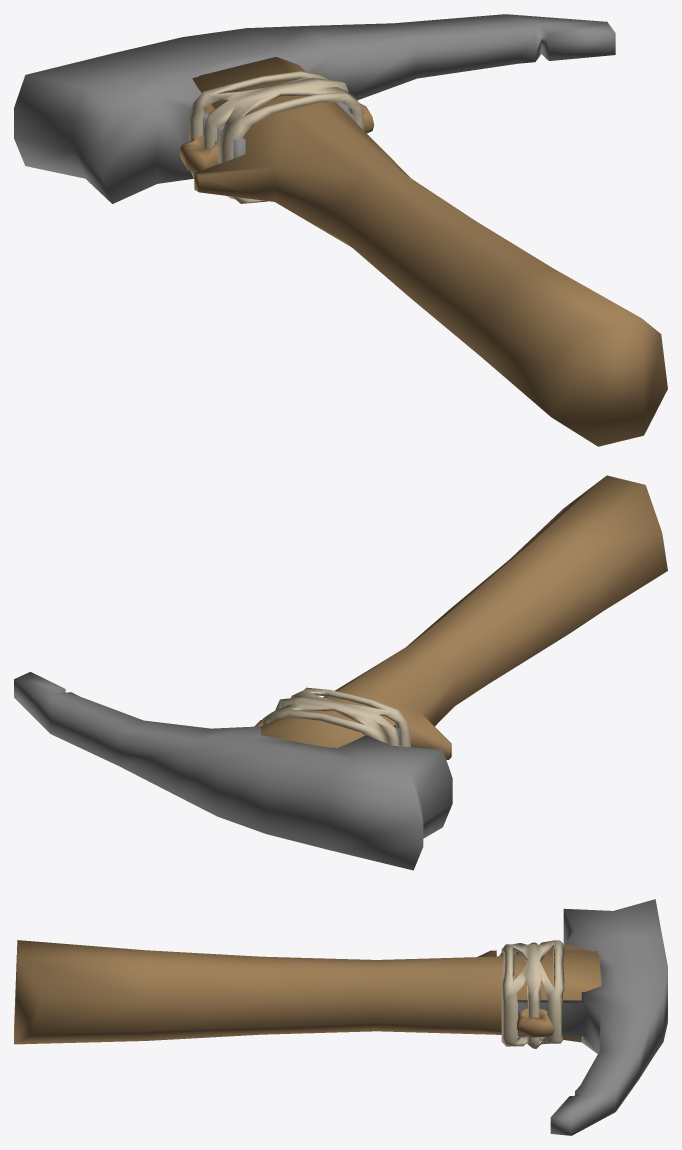
Rendered from pick.fbx.
The picture shows the model from 3 angles, top to bottom: view 1: azimuth 30°, elevation 25°; view 2: azimuth 150°, elevation 25°; view 3: azimuth 270°, elevation 25°; orthographic projection. The views are drawn at different scales.
Parts seen in each view (by area): view 1: PickHandle, PickHead, SmlCord, Peg; view 2: PickHead, PickHandle, SmlCord; view 3: PickHandle, PickHead, SmlCord, Peg.
Part boxes in pixels (box(x1,y1,x2,y2)): PickHandle: box(192, 57, 667, 446); PickHead: box(14, 14, 615, 203); SmlCord: box(188, 71, 363, 203); Peg: box(179, 103, 374, 172); PickHead: box(14, 672, 452, 870); PickHandle: box(260, 475, 667, 759); SmlCord: box(262, 687, 410, 747); PickHandle: box(14, 940, 601, 1044); PickHead: box(499, 899, 667, 1135); SmlCord: box(501, 940, 564, 1048); Peg: box(517, 1008, 554, 1037).
Bounding box in the file's own units: 35.52 × 7.3 × 49.48.
